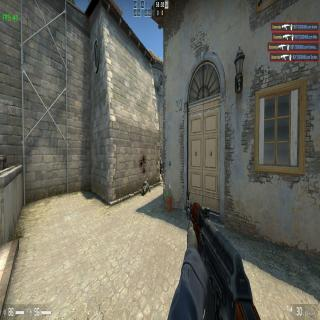CT-Body: (160, 158, 163, 182)
CT-Head: (160, 157, 162, 163)
